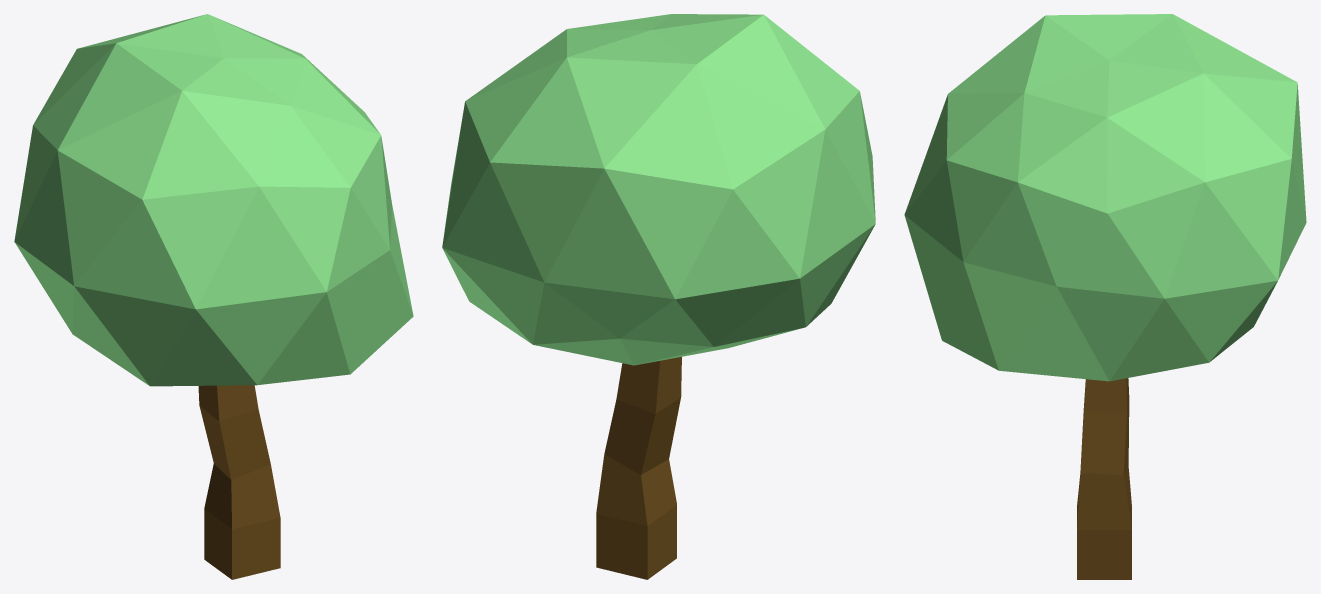
The model's file is tree.fbx.
3 views of the same model, side by side, from view 1: azimuth 30°, elevation 25°; view 2: azimuth 150°, elevation 25°; view 3: azimuth 270°, elevation 25° (orthographic). The views are drawn at different scales.
Visible parts, largest first — view 1: Cube; view 2: Cube; view 3: Cube.
Boxes of the visible parts, box(x1,y1,x2,y2) form: Cube: box(14, 14, 413, 579); Cube: box(442, 14, 875, 579); Cube: box(904, 14, 1306, 579).
Bounding box in the file's own units: 522 × 757 × 540.
